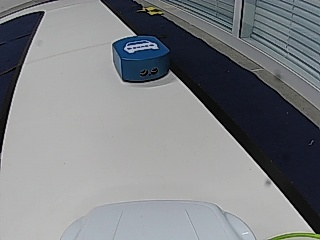safety: (124, 40, 157, 53)
